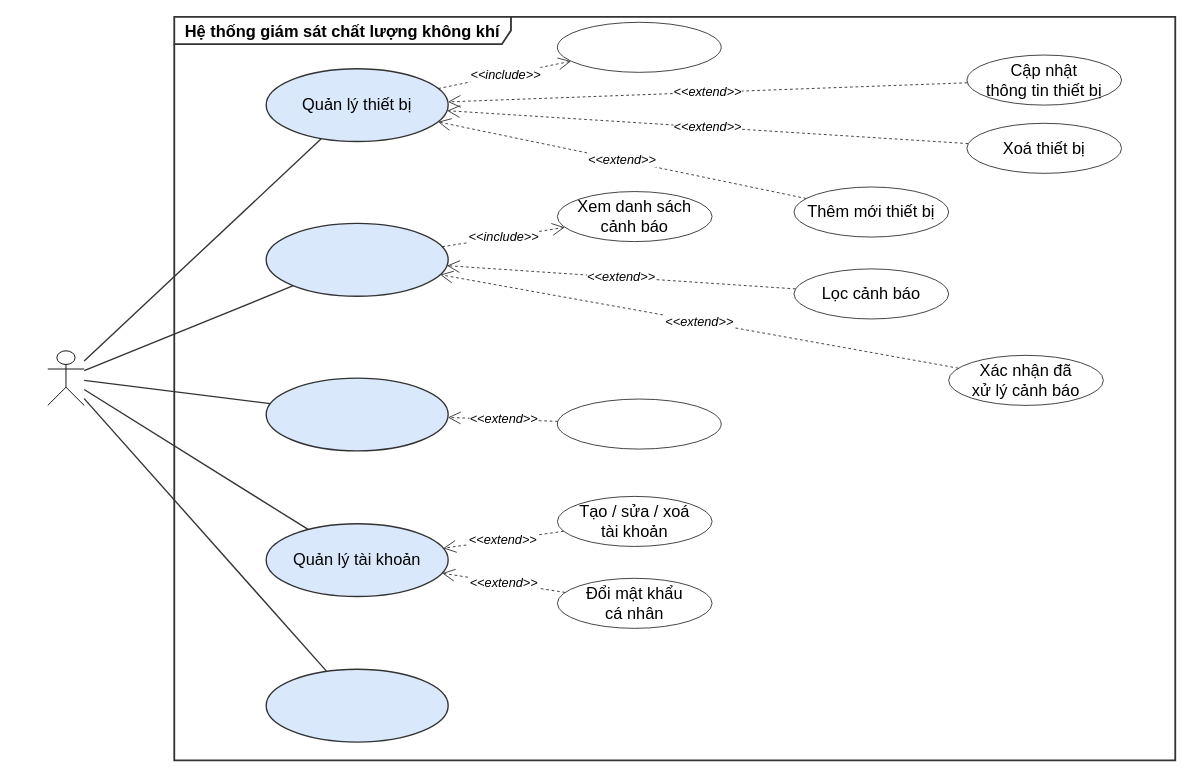
Some shapes in this 1192 by 776 pixel diagram are drawn without their labels. The shapes that lost their labels are listed below. From the top down, each one's centre as x and y in pixels, then its label:
the point at 638,46: Giám sát trạng thái thiết bị
the point at 356,259: Giám sát cảnh báo
the point at 65,377: Quản trị viên
the point at 356,414: Cấu hình hệ thống
the point at 638,423: Thiết lập ngưỡng cảnh báo
the point at 356,705: Xuất dữ liệu
